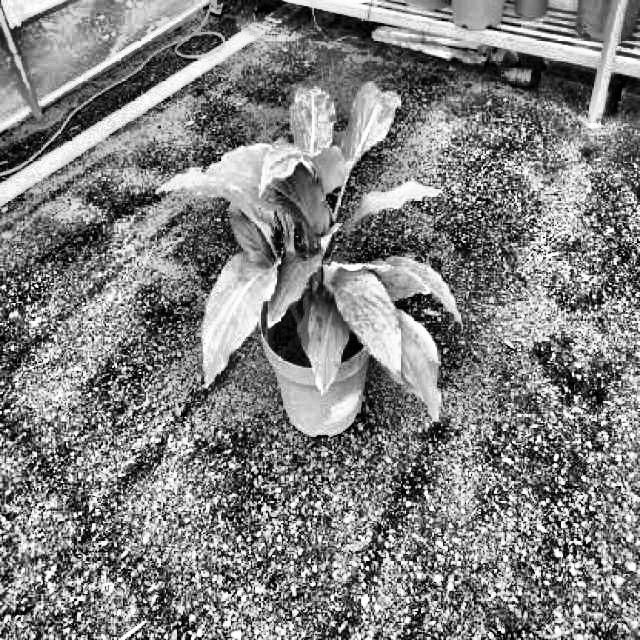plants: (152, 83, 466, 429)
